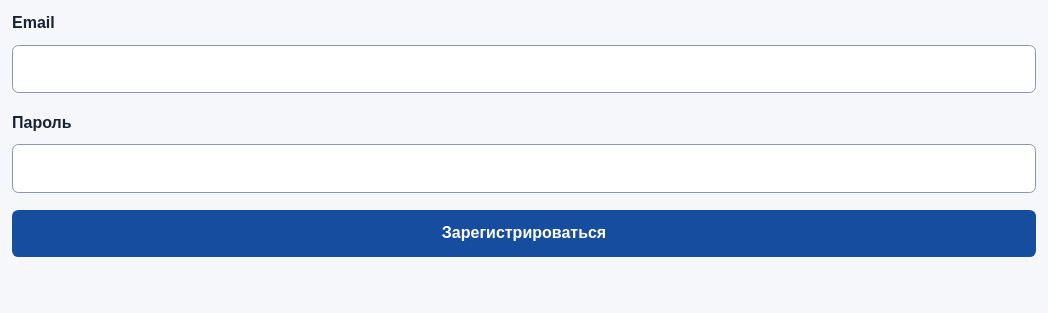
Test: registration displays duplicate error without clearing email
The width and height of the screenshot is (1048, 313).
Type "existing@example.com" into the field labelled "Email" at (524, 69), box x1=12 y1=45 x2=1036 y2=93
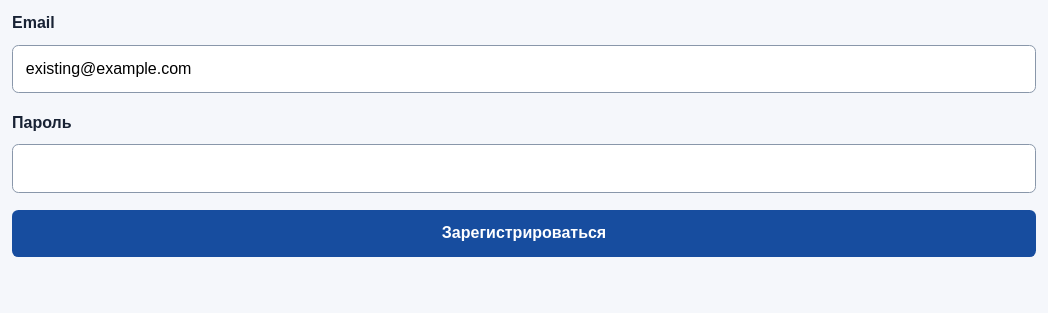
Type "password-123" into the password field labelled "Пароль" at (524, 168), box x1=12 y1=144 x2=1036 y2=193
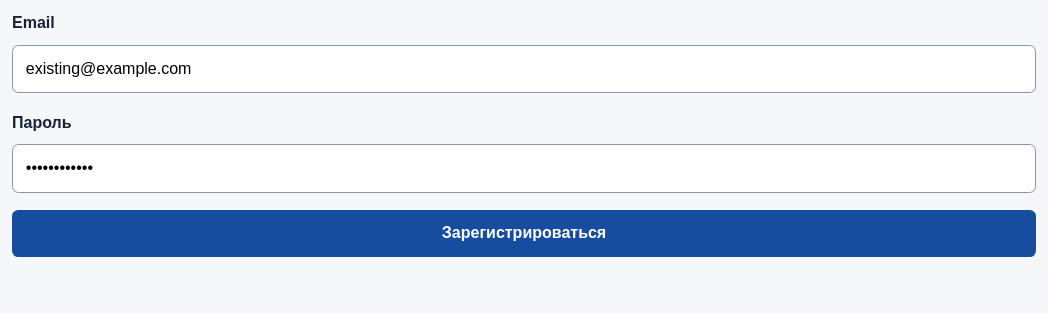
Click the button "Зарегистрироваться" at (524, 233), box x1=12 y1=210 x2=1036 y2=256
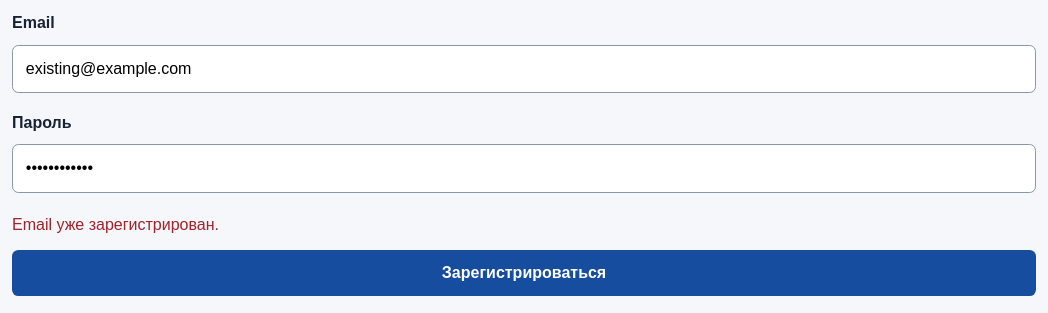
Result: the message shows "Email уже зарегистрирован" at x1=12 y1=216 x2=219 y2=233
